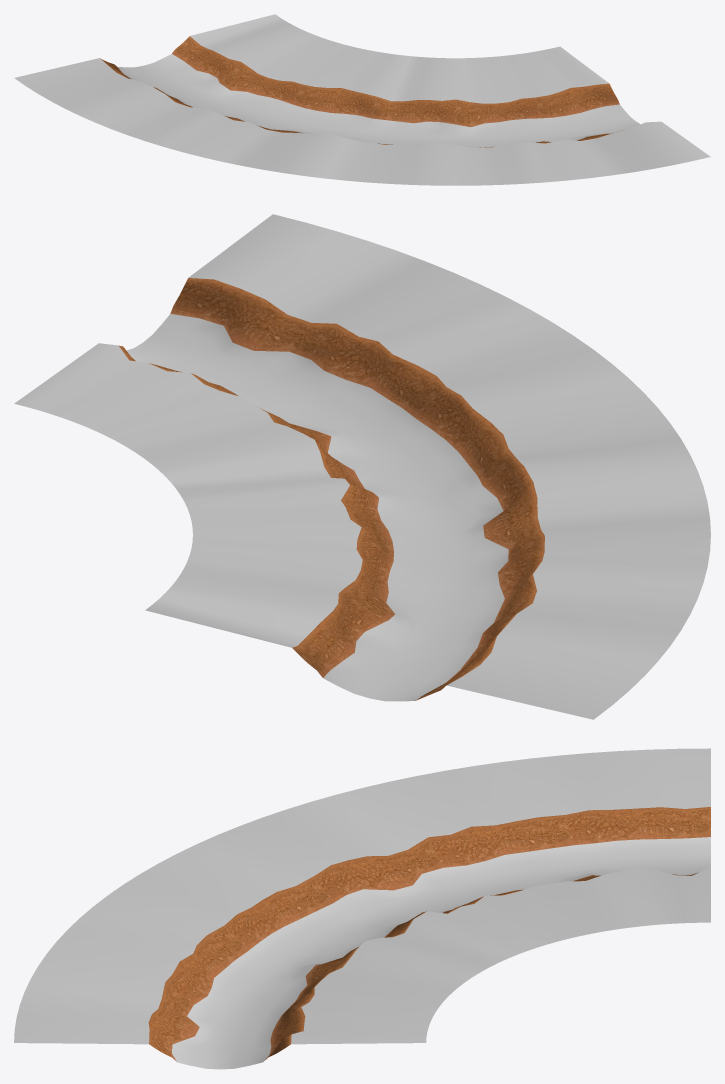
File: River_Bed_Bend_A.fbx
3 views of the same model, one above another, from view 1: azimuth 30°, elevation 25°; view 2: azimuth 150°, elevation 25°; view 3: azimuth 270°, elevation 25° (orthographic). The views are drawn at different scales.
Visible parts, largest first — view 1: RiverBed_Bend_A; view 2: RiverBed_Bend_A; view 3: RiverBed_Bend_A.
Part boxes in pixels (x1,y1,x2,y2): RiverBed_Bend_A: [14, 14, 710, 185]; RiverBed_Bend_A: [14, 214, 710, 719]; RiverBed_Bend_A: [14, 748, 710, 1069].
Size of the model in its own units: 2005 by 92.86 by 2005.
